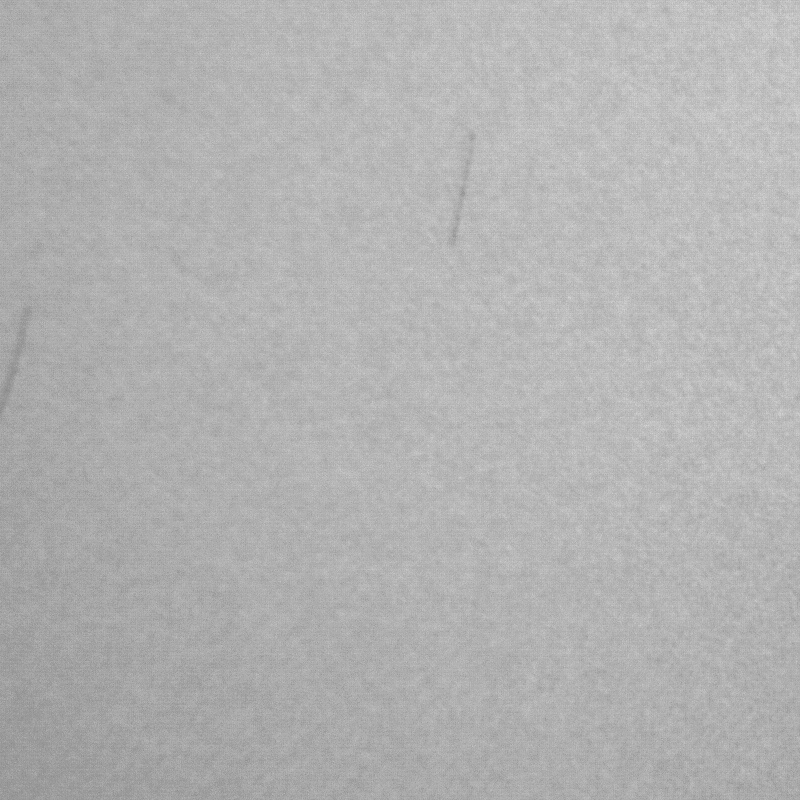defect: (1, 303, 34, 410), (446, 133, 474, 252)
